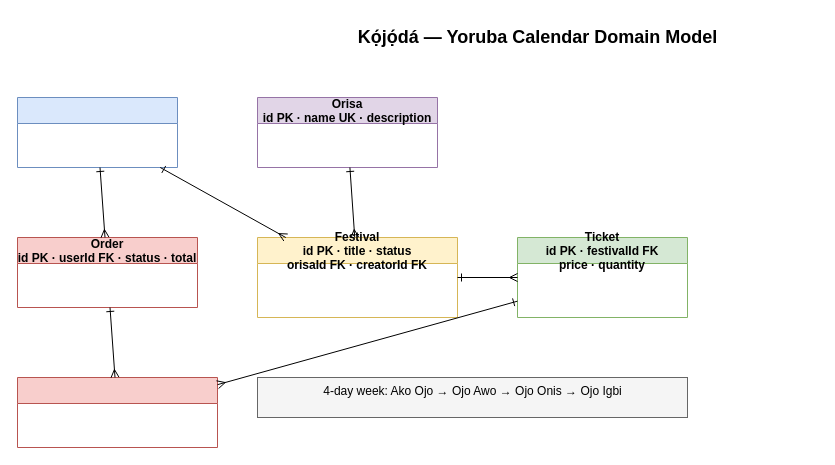
Some shapes in this 835 by 465 pixel diagram are drawn without their labels. The centre of each missing label's shape, as x and y in pixels:
"OrderItem orderId FK · ticketId FK · qty" goes at pixel 117 412.
"User id PK · email UK · role" goes at pixel 97 132.
